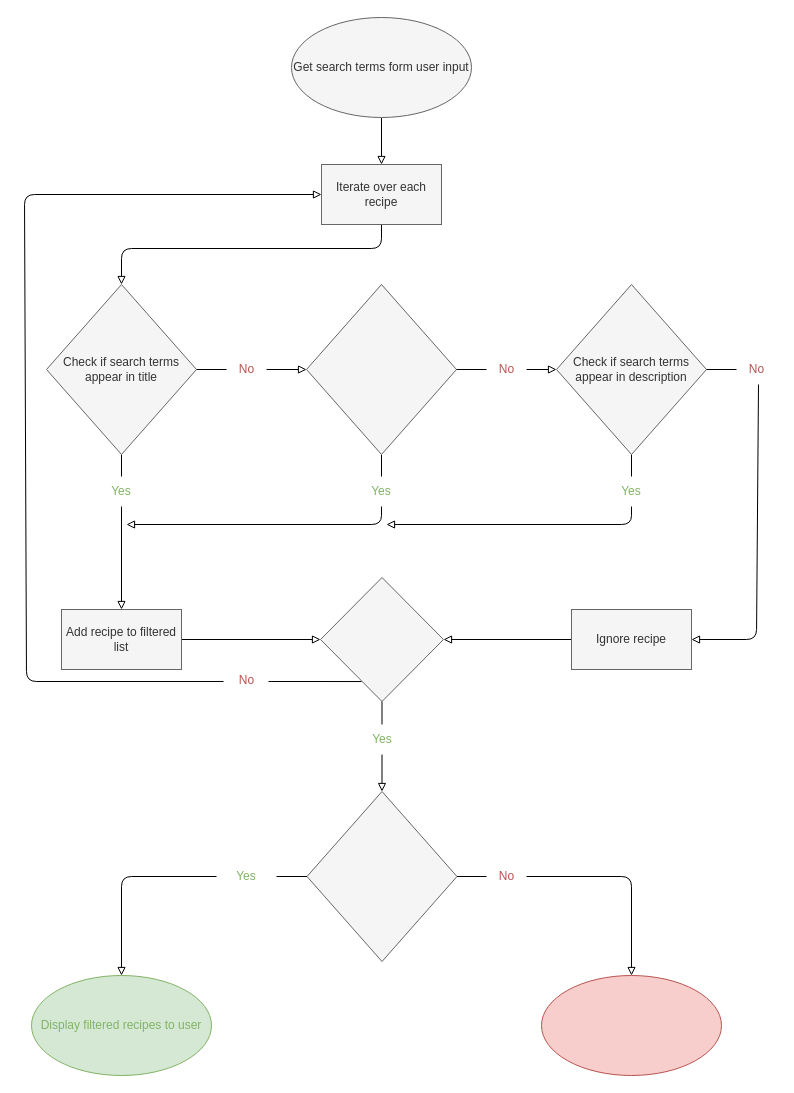
The diagram is 794 pixels wide and 1093 high, and some of its shapes have lost their labels. Each missing label, with the centre of its shape:
Check if search terms appear in ingredients: the point at 381,369
Display error message: the point at 631,1025
End iteration over recipes array: the point at 382,639
Matching recipes found: the point at 381,876
